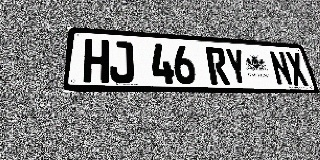4: (150, 43, 175, 84)
6: (172, 45, 197, 84)
H: (83, 39, 109, 83)
J: (110, 41, 134, 83)
N: (268, 51, 294, 86)
R: (205, 47, 230, 85)
X: (284, 52, 310, 86)
Y: (224, 48, 249, 85)
